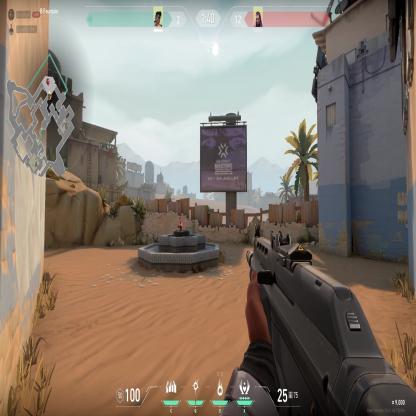enemy: (177, 216, 183, 231)
